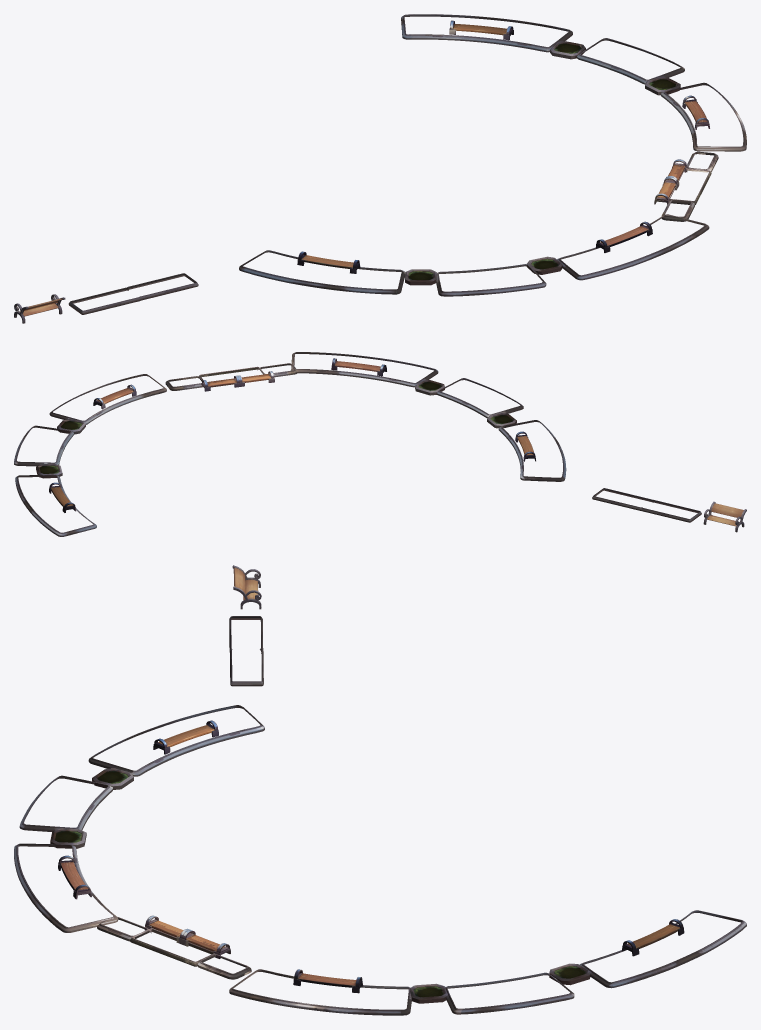
File: pref_sm_garden_props_vray_001_lv2.fbx
3 renders of one model, top to bottom at view 1: azimuth 30°, elevation 25°; view 2: azimuth 150°, elevation 25°; view 3: azimuth 270°, elevation 25°, orthographic. The views are drawn at different scales.
Parts seen in each view (by area): view 1: pref_sm_garden_props_vray_001_lv2; view 2: pref_sm_garden_props_vray_001_lv2; view 3: pref_sm_garden_props_vray_001_lv2.
Part boxes in pixels (x1,y1,x2,y2): pref_sm_garden_props_vray_001_lv2: (14,14,746,323); pref_sm_garden_props_vray_001_lv2: (14,352,746,536); pref_sm_garden_props_vray_001_lv2: (14,565,746,1015).
Size of the model in its own units: 59.03 by 1.5 by 42.47.
